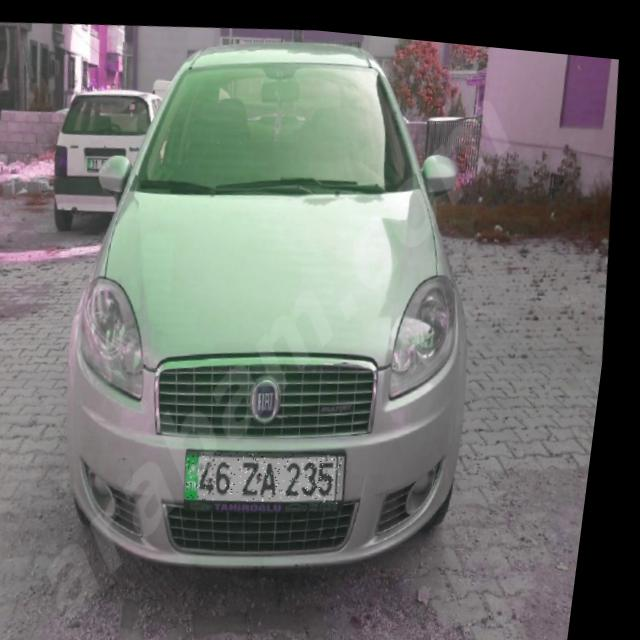license_plate: (194, 435, 357, 506)
